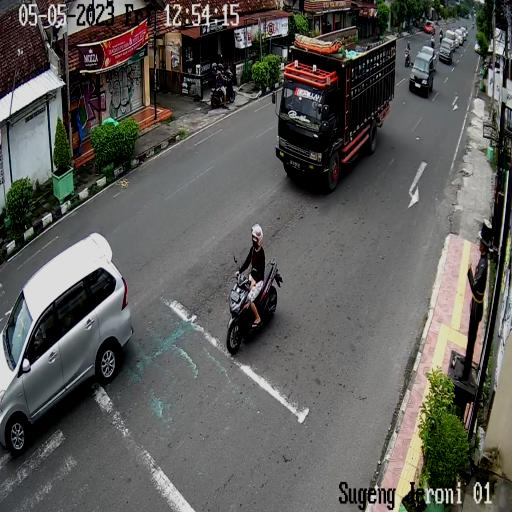mobil: (0, 227, 141, 457), (267, 23, 397, 188), (410, 50, 434, 102)
motor: (227, 253, 284, 358)
